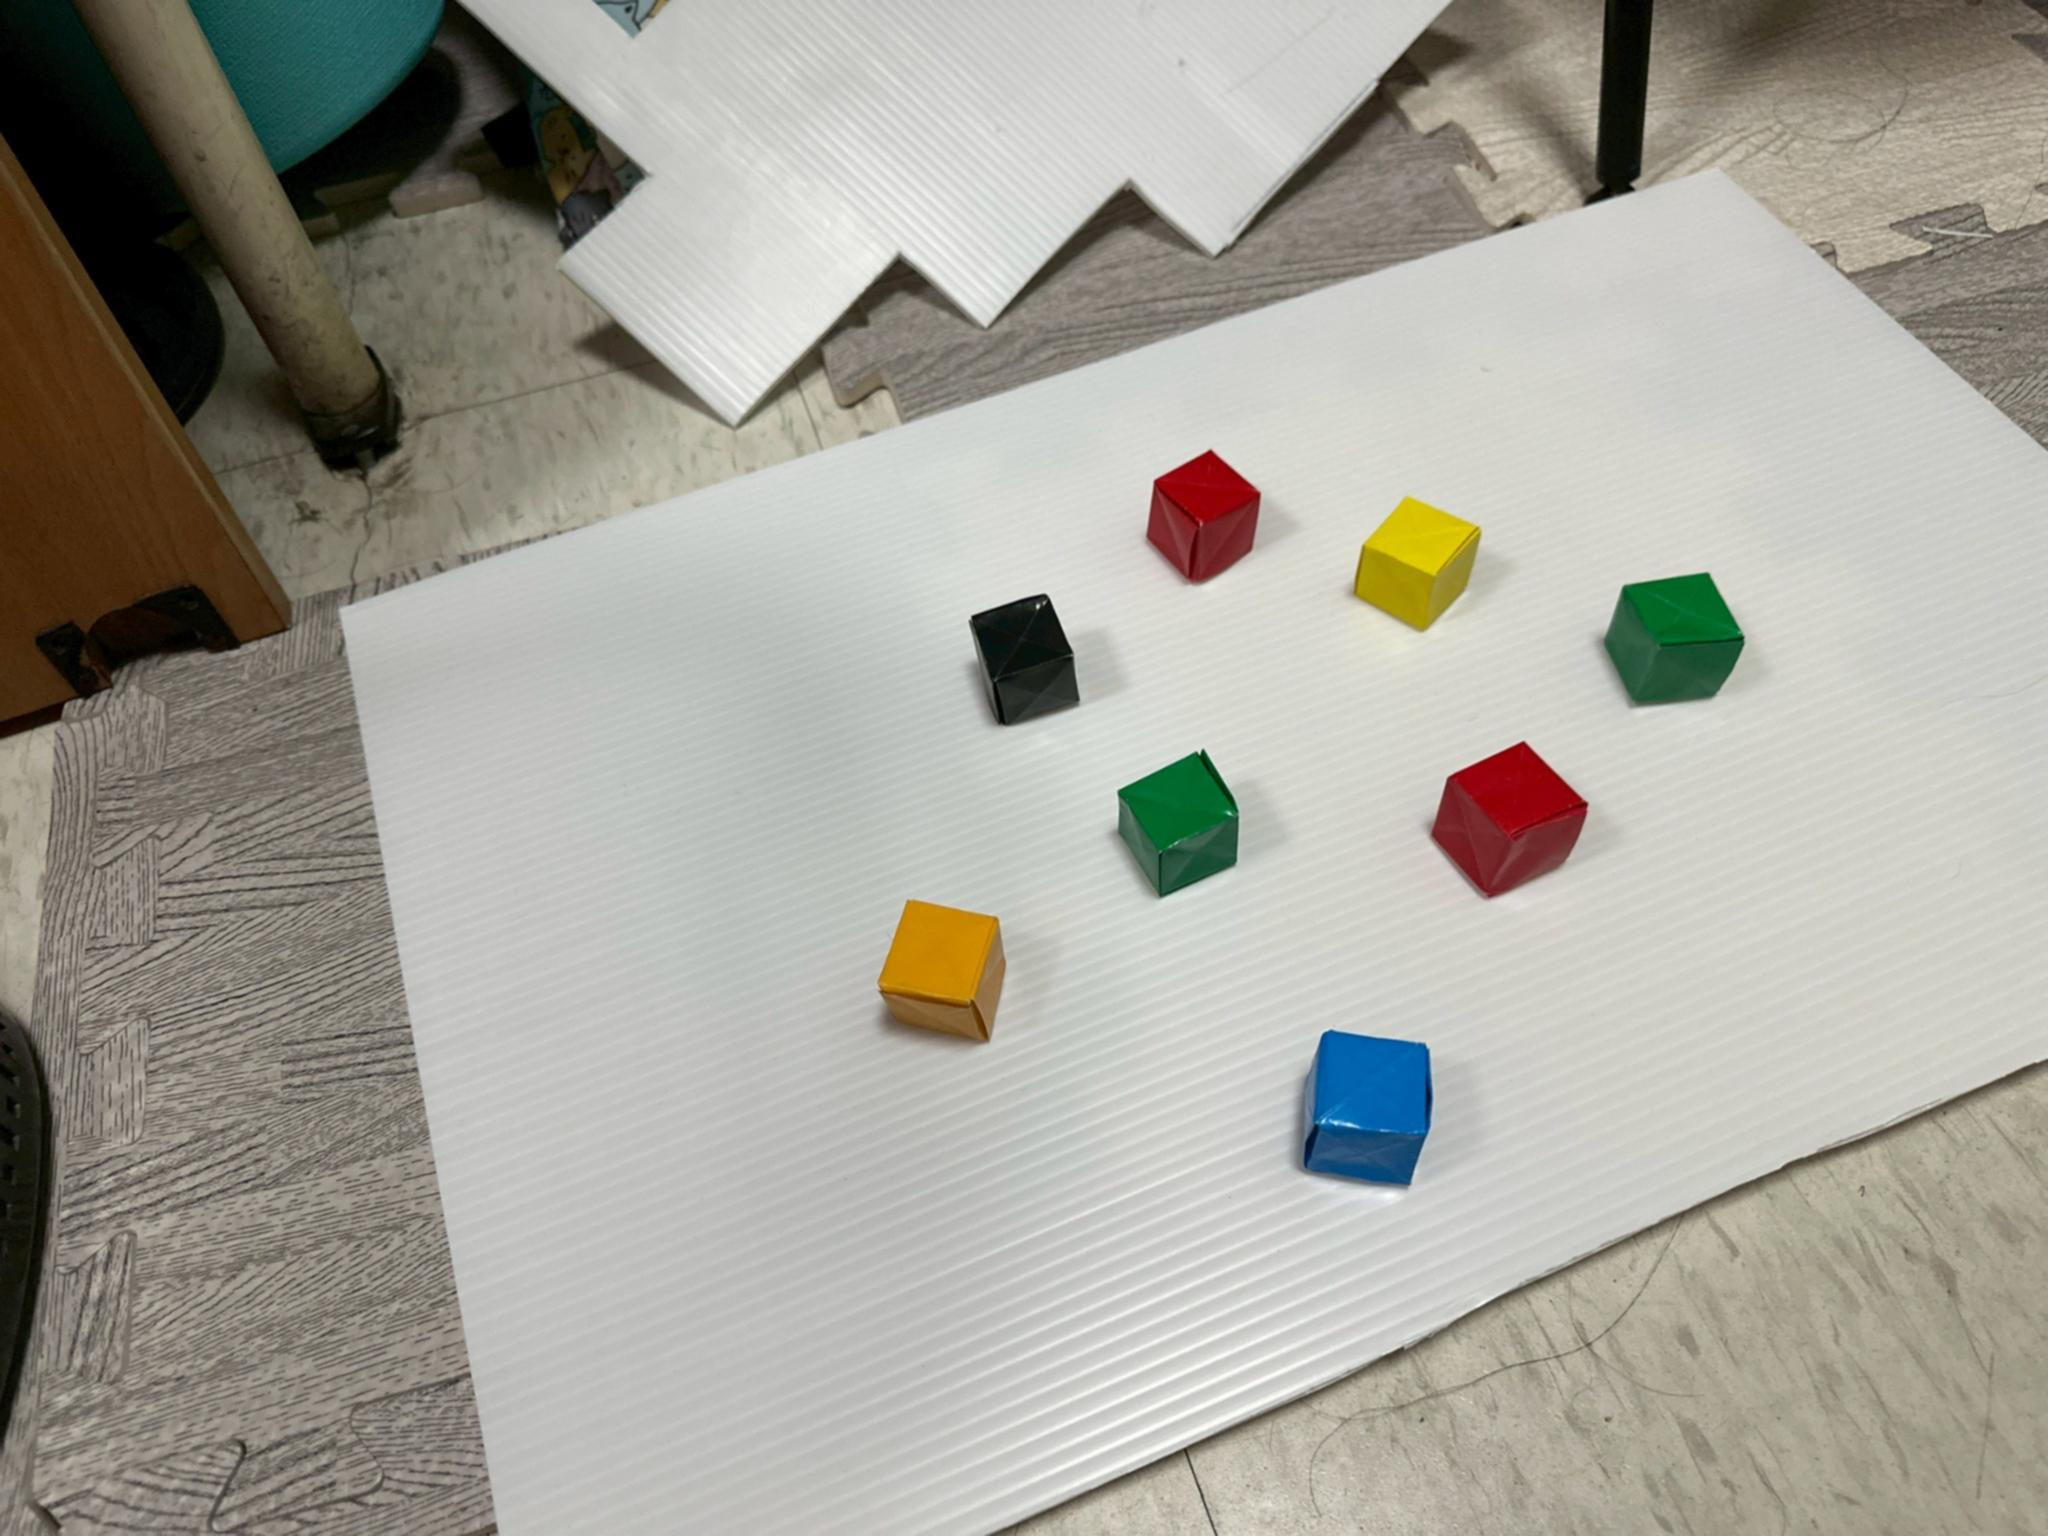cube: (1430, 744, 1587, 897), (1305, 1031, 1429, 1184), (1603, 573, 1742, 705), (1118, 752, 1238, 897), (879, 902, 1005, 1041), (1355, 499, 1480, 629), (1147, 452, 1259, 582), (971, 595, 1079, 724)
